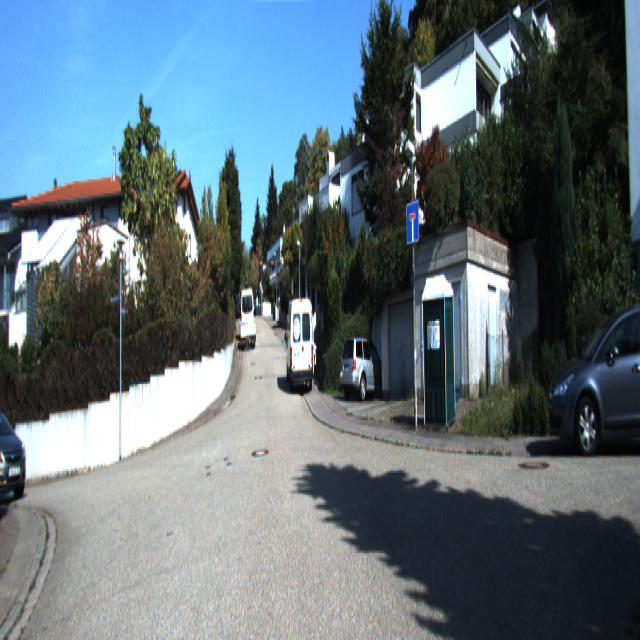Car: (548, 294, 640, 456), (0, 393, 35, 505), (338, 333, 392, 401), (286, 294, 316, 392), (240, 288, 253, 340), (240, 317, 257, 345)
